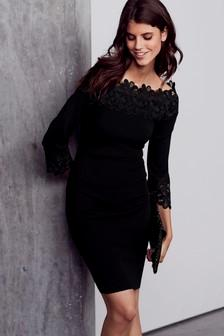S_dress: (40, 65, 184, 293)
